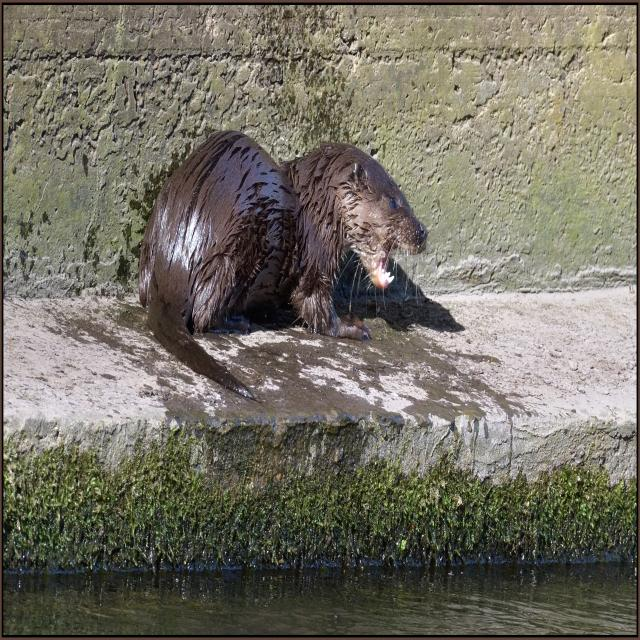otter: (141, 130, 427, 337)
